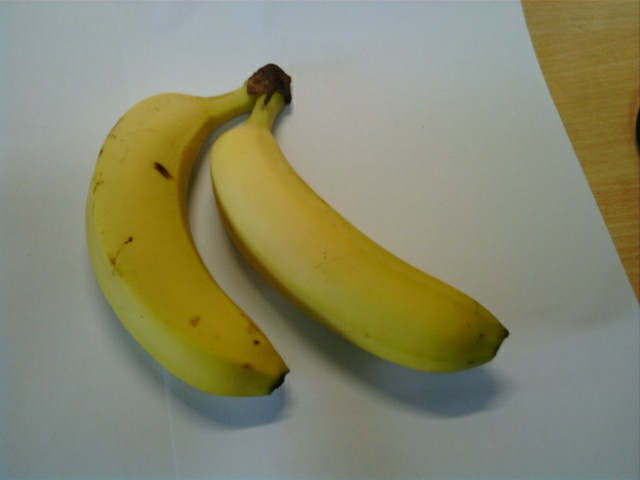fresh_banana: (215, 120, 509, 374)
normal_banana: (86, 92, 284, 393)
